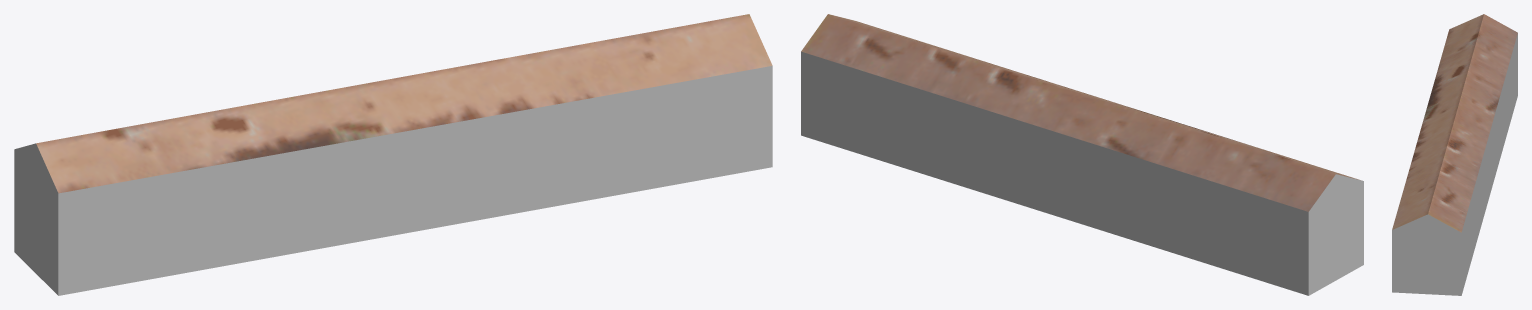
File: DEBW_0010007Txaq.gltf
3 views of the same model, side by side, from view 1: azimuth 30°, elevation 25°; view 2: azimuth 150°, elevation 25°; view 3: azimuth 270°, elevation 25° (orthographic). The views are drawn at different scales.
Visible parts, largest first — view 1: Z_UP; view 2: Z_UP; view 3: Z_UP.
Part boxes in pixels (x1=…): Z_UP: x1=14, y1=14, x2=772, y2=295; Z_UP: x1=801, y1=14, x2=1363, y2=295; Z_UP: x1=1392, y1=14, x2=1517, y2=295.
Bounding box in the file's own units: 48.05 × 8.82 × 12.56.
Materials: 2 (1 with a texture image).
